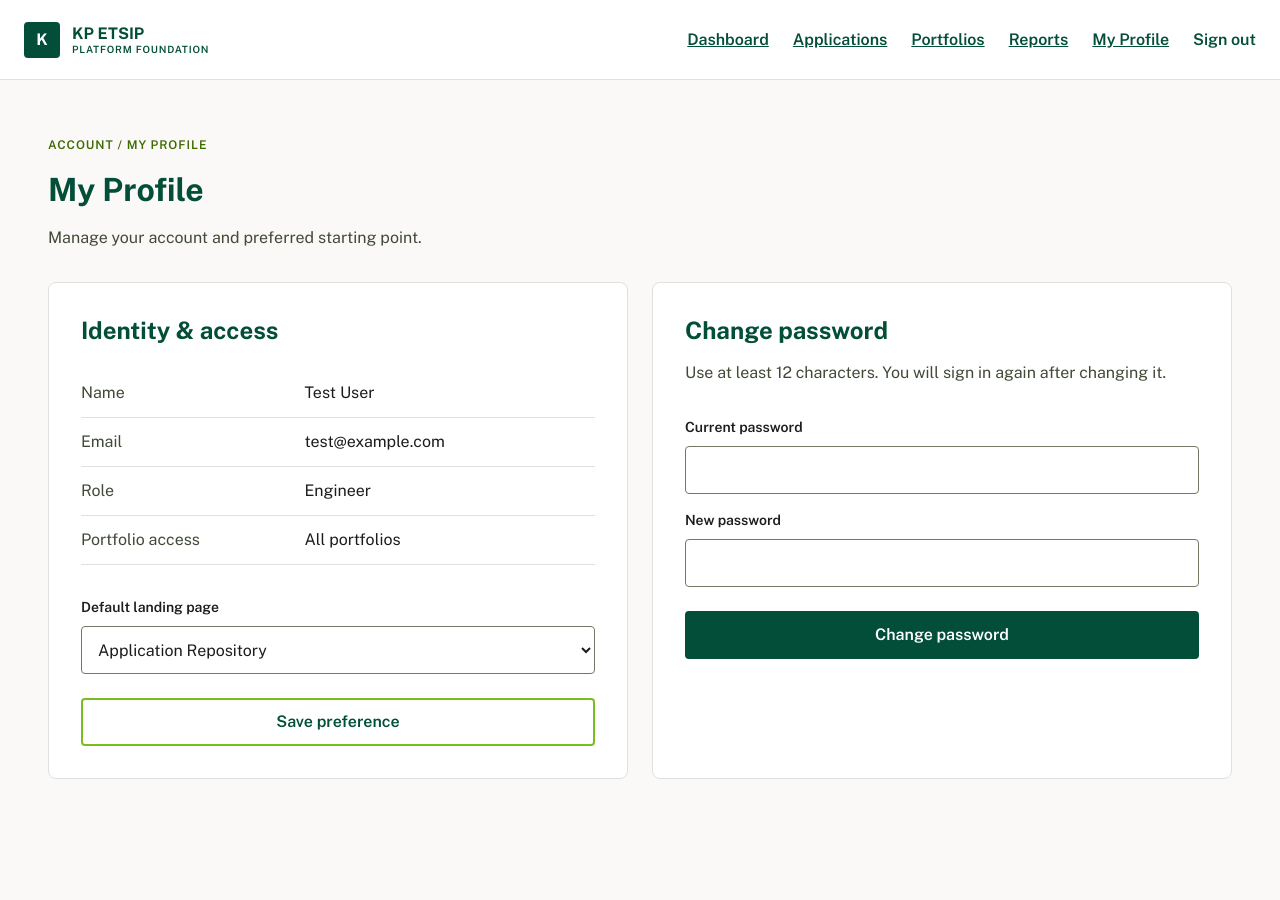
signs out locally when server logout succeeds=false
Check: the text "test@example.com" is shown, box [304, 432, 445, 451]
Click the button "Sign out".
click(1224, 40)  # box [1193, 18, 1256, 62]
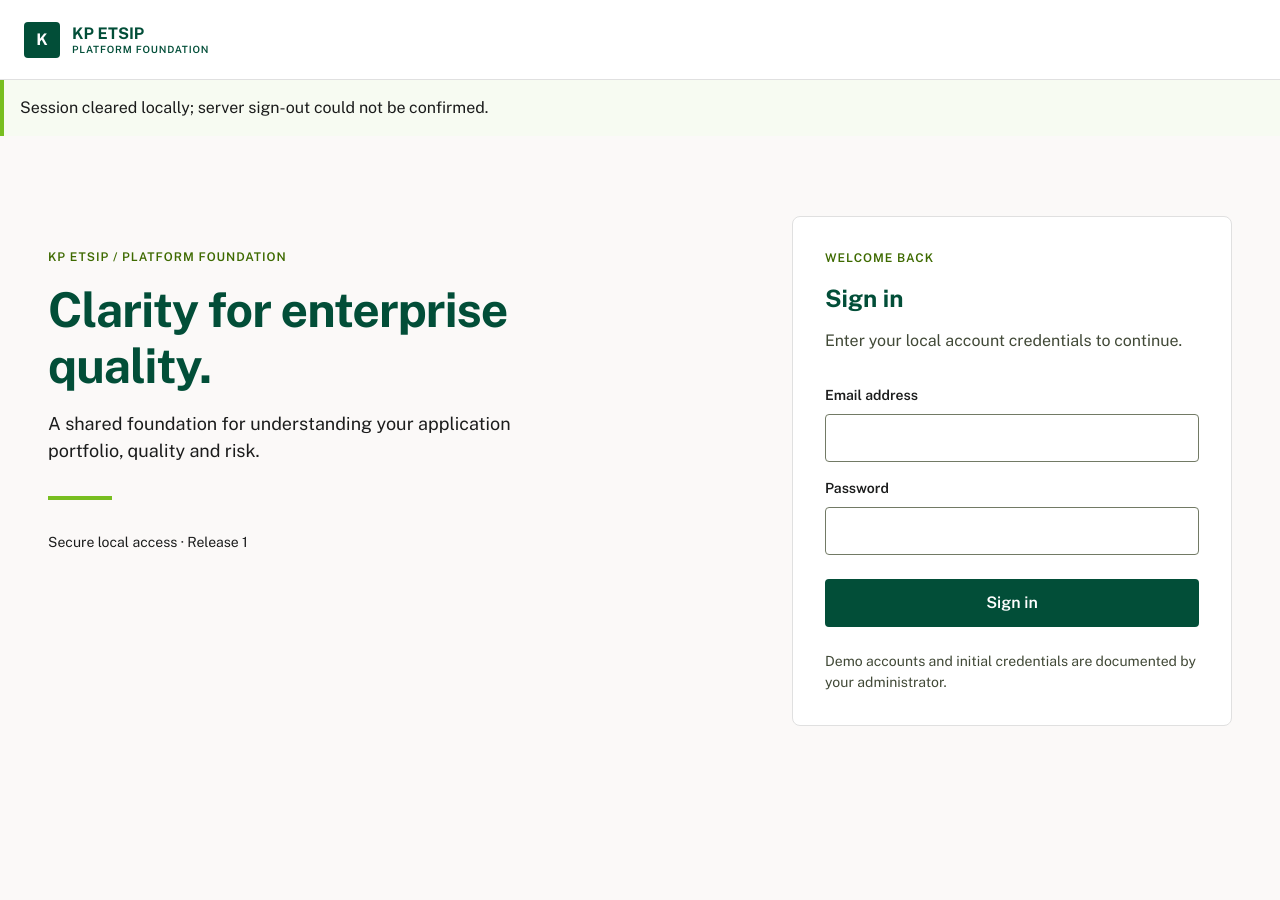
Check: the heading "Sign in" is shown, box [825, 284, 903, 312]
Check: the text "Session cleared locally; server sign-out could not be confirmed." is shown, box [0, 80, 1279, 136]
